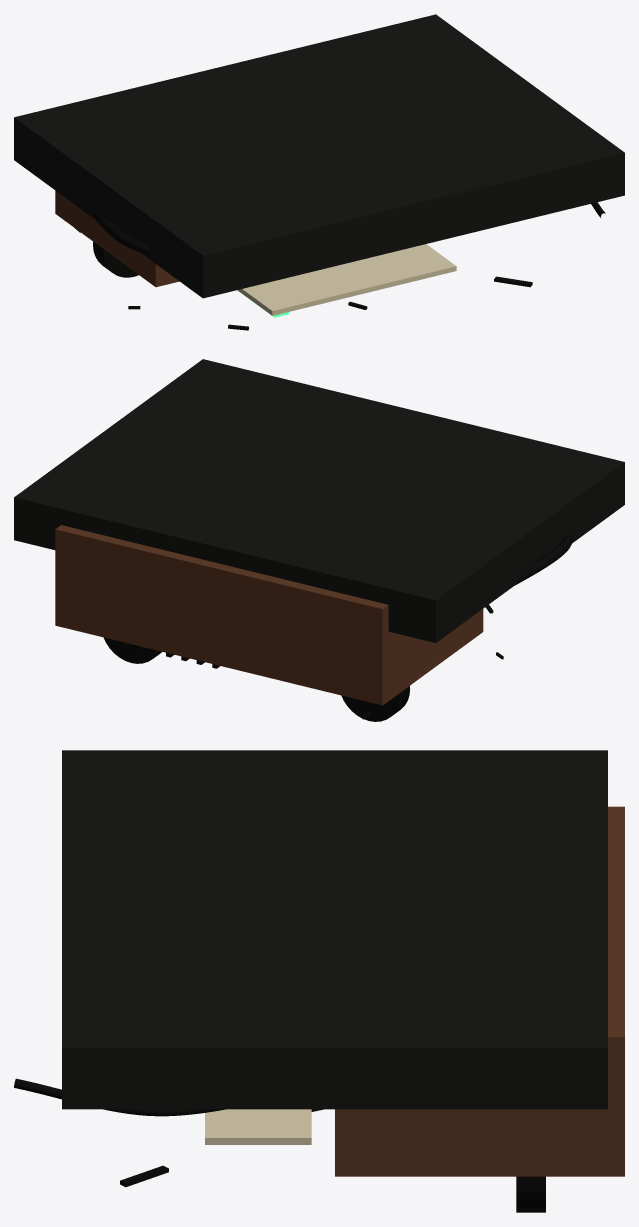
Rendered from dz_shelter_radio_wall_premium.glb.
3 renders of one model, top to bottom at view 1: azimuth 30°, elevation 25°; view 2: azimuth 150°, elevation 25°; view 3: azimuth 270°, elevation 25°, orthographic. The views are drawn at different scales.
Parts seen in each view (by area): view 1: beveled radio wall frame, radio paper label paper, radio console body, hanging wall cable, left tuning dial; view 2: beveled radio wall frame, radio console body, left tuning dial, hanging wall cable, right tuning dial; view 3: beveled radio wall frame, radio console body, radio paper label paper, bent antenna, right tuning dial.
Boxes of the visible parts, box(x1,y1,x2,y2) form: beveled radio wall frame: box(14, 14, 624, 298); radio paper label paper: box(237, 244, 456, 315); radio console body: box(55, 190, 179, 287); hanging wall cable: box(94, 215, 150, 255); left tuning dial: box(93, 242, 138, 277); beveled radio wall frame: box(14, 359, 624, 642); radio console body: box(55, 525, 483, 705); left tuning dial: box(341, 686, 409, 721); hanging wall cable: box(514, 533, 573, 585); right tuning dial: box(104, 637, 162, 663); beveled radio wall frame: box(62, 750, 607, 1109); radio console body: box(335, 806, 624, 1176); radio paper label paper: box(205, 1109, 311, 1144); bent antenna: box(14, 1078, 225, 1116); right tuning dial: box(516, 1176, 545, 1212).
Bounding box in the file's own units: 1.69 × 0.59 × 1.43.
